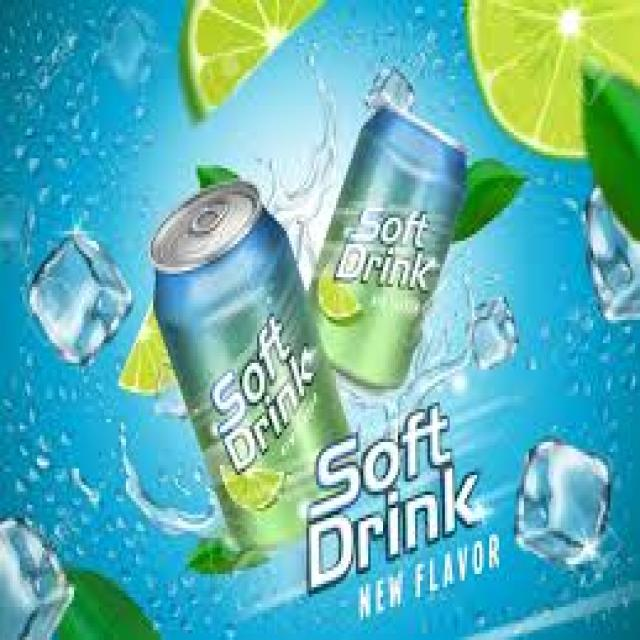Cans: (146, 175, 366, 561), (301, 86, 477, 409)
